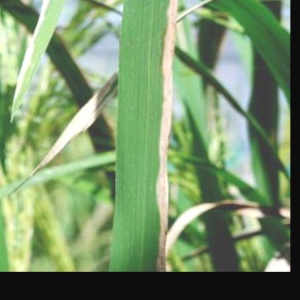Leaf_Blast: (115, 0, 173, 272), (8, 16, 46, 121)
